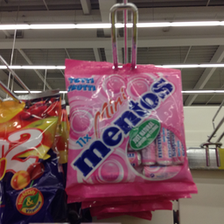candy: (67, 58, 196, 199), (1, 97, 63, 217)
